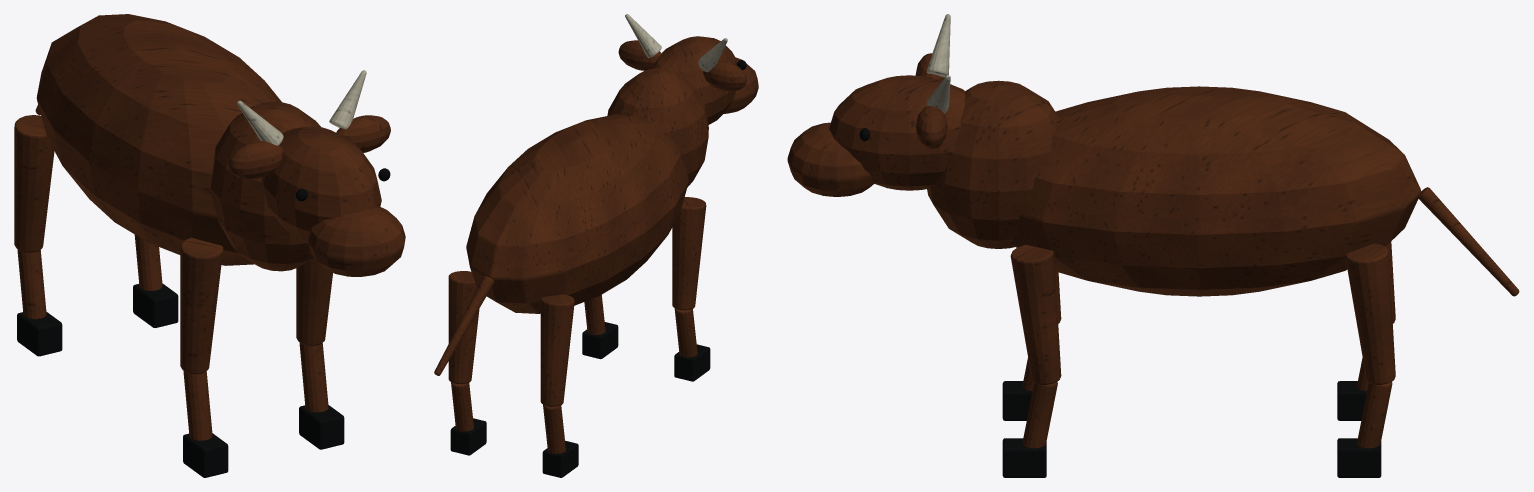
The model's file is PROP-06B4CC358501_lod0.glb.
3 views of the same model, side by side, from view 1: azimuth 30°, elevation 25°; view 2: azimuth 150°, elevation 25°; view 3: azimuth 270°, elevation 25° (orthographic). The views are drawn at different scales.
Visible parts, largest first — view 1: animal_torso, upper_leg, animal_head, animal_neck, hoof, lower_leg, muzzle, animal_ears, horn; view 2: animal_torso, upper_leg, animal_neck, hoof, lower_leg, animal_head, animal_ears, tail, horn, muzzle; view 3: animal_torso, animal_neck, upper_leg, animal_head, hoof, muzzle, lower_leg, tail, horn, animal_ears.
Part boxes in pixels (x1,y1,x2,y2): animal_torso: [36, 14, 281, 265]; upper_leg: [14, 115, 332, 374]; animal_head: [262, 126, 381, 242]; animal_neck: [211, 101, 320, 271]; hoof: [17, 283, 344, 477]; lower_leg: [17, 234, 328, 440]; muzzle: [308, 206, 405, 276]; animal_ears: [229, 115, 390, 179]; horn: [237, 70, 366, 145]; animal_torso: [466, 114, 688, 313]; upper_leg: [448, 197, 706, 406]; animal_neck: [607, 68, 708, 187]; hoof: [450, 322, 710, 477]; lower_leg: [451, 295, 697, 453]; animal_head: [650, 36, 737, 124]; animal_ears: [618, 40, 746, 91]; tail: [434, 276, 494, 375]; horn: [625, 14, 727, 72]; muzzle: [724, 57, 758, 113]; animal_torso: [1010, 86, 1421, 296]; animal_neck: [927, 80, 1058, 248]; upper_leg: [1010, 241, 1395, 384]; animal_head: [829, 75, 965, 190]; hoof: [1002, 381, 1381, 477]; muzzle: [787, 122, 873, 196]; lower_leg: [1022, 358, 1392, 448]; tail: [1418, 187, 1519, 296]; horn: [926, 14, 950, 113]; animal_ears: [915, 53, 947, 148].
Size of the model in its own units: 0.7 by 1.5 by 2.49.
Materials: 3 (3 with a texture image).
